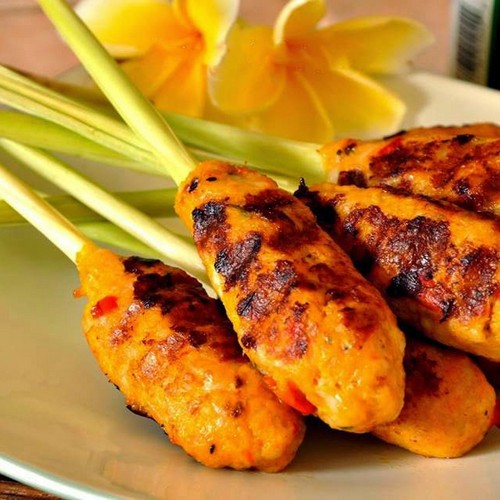sate languan: (172, 155, 412, 441), (73, 234, 289, 464), (298, 181, 500, 346)
